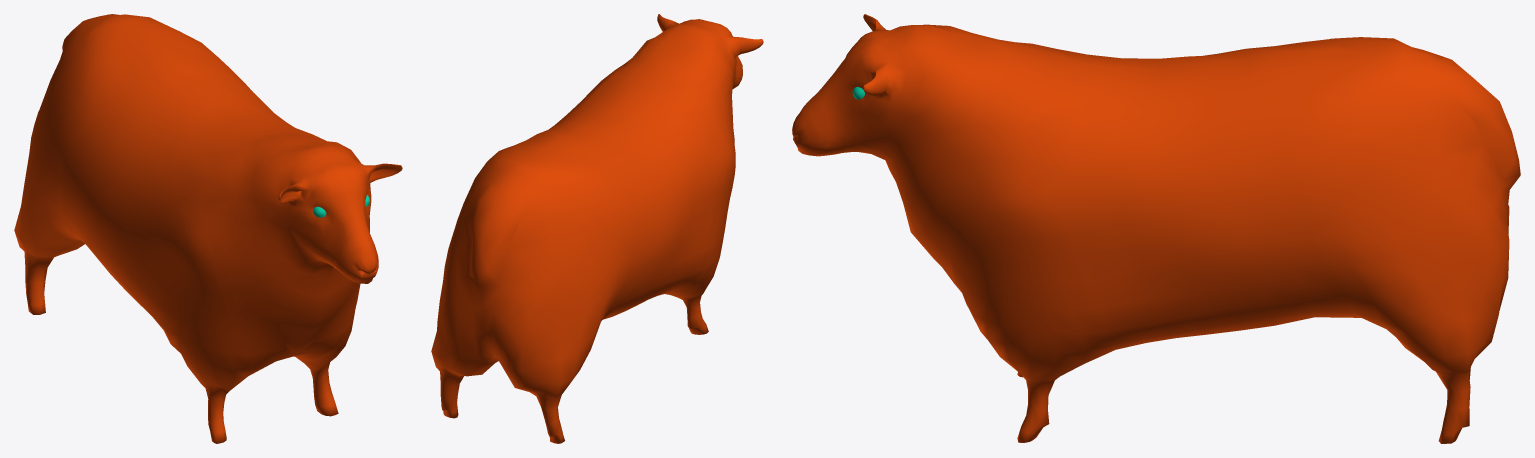
File: sheep-rigged.fbx
3 views of the same model, side by side, from view 1: azimuth 30°, elevation 25°; view 2: azimuth 150°, elevation 25°; view 3: azimuth 270°, elevation 25° (orthographic). The views are drawn at different scales.
Parts seen in each view (by area): view 1: Sheep; view 2: Sheep; view 3: Sheep.
Part boxes in pixels (<box>): Sheep: <box>14,14,402,443</box>; Sheep: <box>431,14,763,443</box>; Sheep: <box>792,14,1520,443</box>.
Size of the model in its own units: 163 by 251 by 440.
